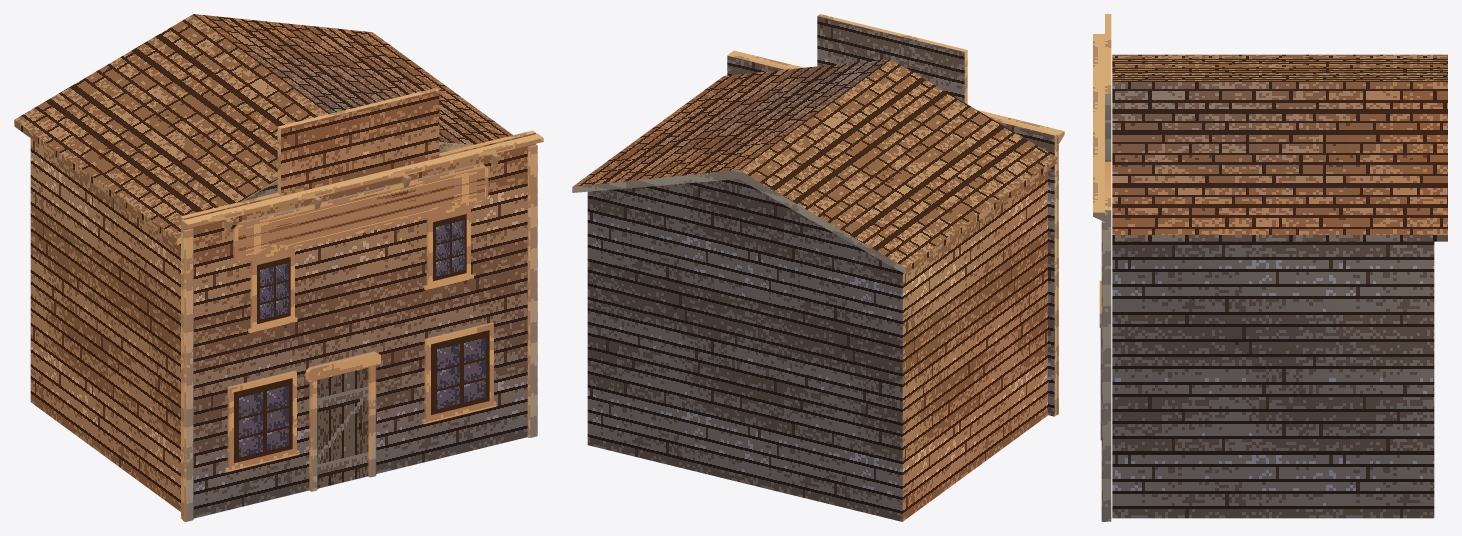
Rendered from wtown.facade__f_tall.glb.
3 views of the same model, side by side, from view 1: azimuth 30°, elevation 25°; view 2: azimuth 150°, elevation 25°; view 3: azimuth 270°, elevation 25° (orthographic). The views are drawn at different scales.
Visible parts, largest first — view 1: kit_front, kit_roof, kit_body, kit_card_panes, kit_trim, kit_windows; view 2: kit_body, kit_roof, kit_front, kit_trim; view 3: kit_body, kit_roof, kit_trim, kit_front.
Boxes of the visible parts, bbox=[...] form: kit_front: bbox=[181, 88, 535, 519]; kit_roof: bbox=[14, 14, 512, 245]; kit_body: bbox=[30, 138, 468, 511]; kit_card_panes: bbox=[234, 167, 489, 488]; kit_trim: bbox=[181, 133, 543, 521]; kit_windows: bbox=[225, 201, 496, 472]; kit_body: bbox=[587, 170, 1047, 521]; kit_roof: bbox=[572, 59, 1057, 274]; kit_front: bbox=[727, 14, 1057, 416]; kit_trim: bbox=[728, 50, 1064, 414]; kit_body: bbox=[1112, 241, 1434, 518]; kit_roof: bbox=[1112, 54, 1447, 241]; kit_trim: bbox=[1093, 34, 1105, 521]; kit_front: bbox=[1105, 14, 1111, 521].
Bounding box in the file's own units: 7.94 × 7.8 × 6.61.
6 materials, 6 textured.
